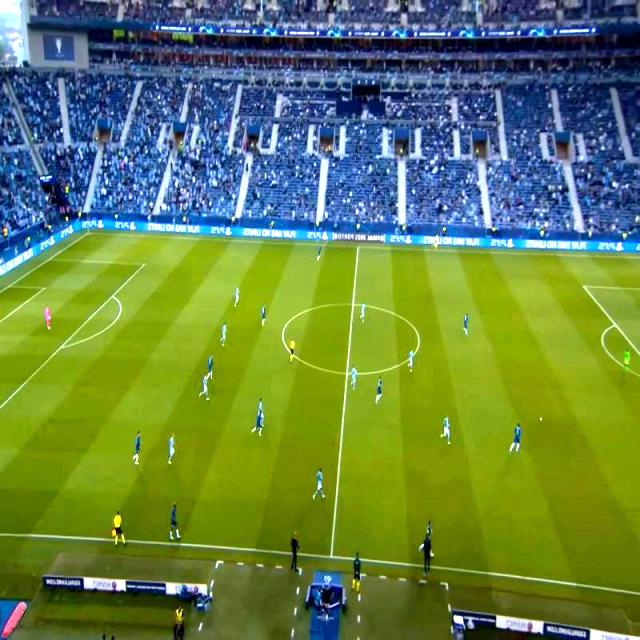bigarea_top_inner: (576, 280, 590, 292), (138, 258, 150, 271)
bigarea_top_outter: (44, 253, 56, 266)
bottom_arc_area_intersection: (56, 341, 67, 353)
corner: (82, 228, 94, 240)
halfcircle_bottom: (342, 368, 352, 379)
halfcircle_top: (347, 300, 359, 310)
midline_bottom_intersection: (326, 550, 338, 563)
midline_top_intersection: (352, 242, 364, 252)
smallarea_top_inner: (38, 282, 50, 294)
smallarea_top_outter: (4, 280, 16, 292)
top_arc_area_intersection: (107, 290, 119, 304), (608, 319, 622, 331)
